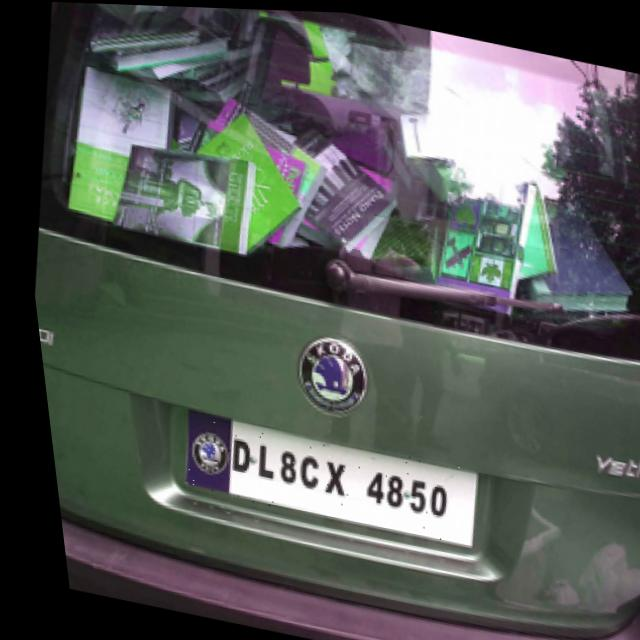license_plate: (166, 408, 470, 545)
